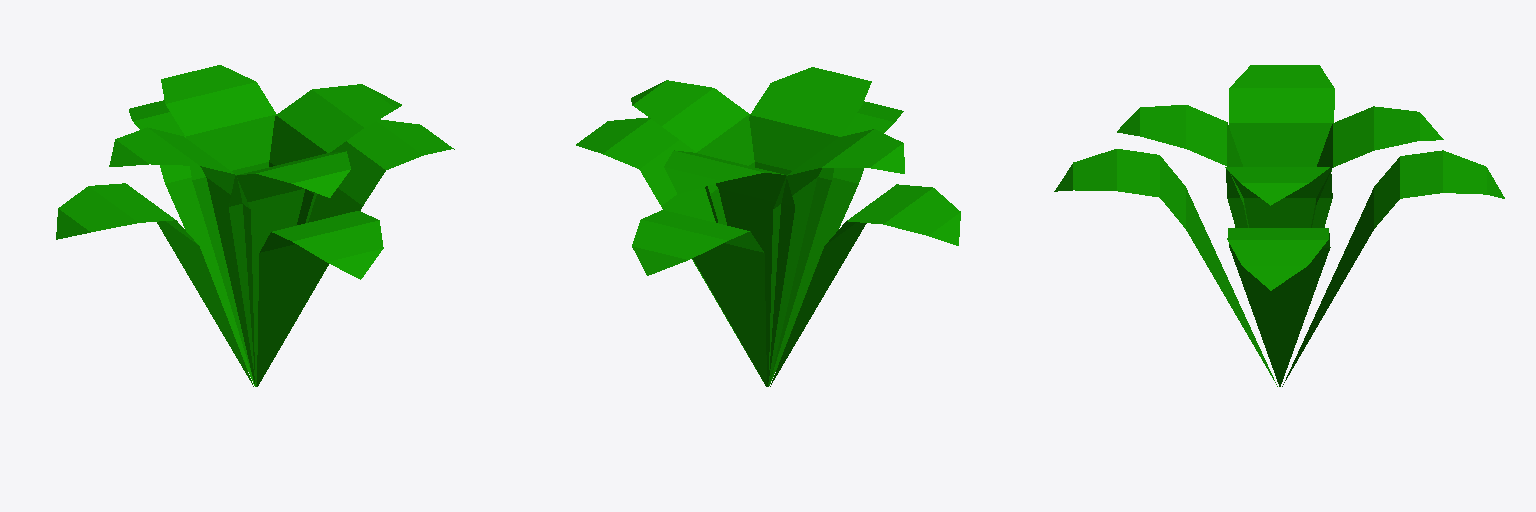
The model's file is grass.obj.
3 views of the same model, side by side, from view 1: azimuth 30°, elevation 25°; view 2: azimuth 150°, elevation 25°; view 3: azimuth 270°, elevation 25° (orthographic).
Visible parts, largest first — view 1: Plane.010_Plane.018; view 2: Plane.010_Plane.018; view 3: Plane.010_Plane.018.
Boxes of the visible parts, x1,y1,x2,y2 form: Plane.010_Plane.018: [56, 65, 454, 386]; Plane.010_Plane.018: [576, 67, 960, 386]; Plane.010_Plane.018: [1054, 65, 1504, 386].
Bounding box in the file's own units: 2.12 × 1.37 × 2.12.